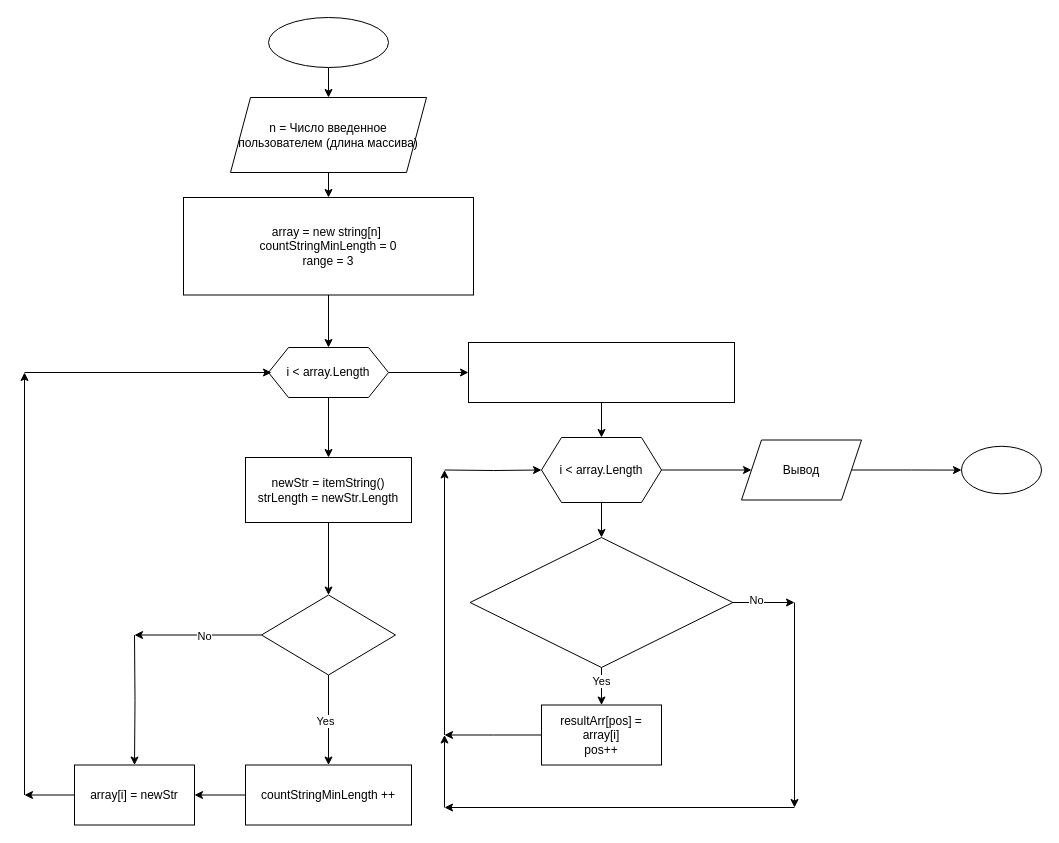
Image size: 1059x843. Some labels were removed from this diagram. Here are the shapes that lost their labels. From the top down, the box of each, then its label:
(268, 16, 388, 68): Start
(468, 342, 734, 402): resultArr = new string[countStringMinLength]
(960, 445, 1042, 494): Конец
(469, 536, 733, 668): array[i].Length <= range && pos < CountStringMinLength
(260, 594, 396, 675): strLength <=range
